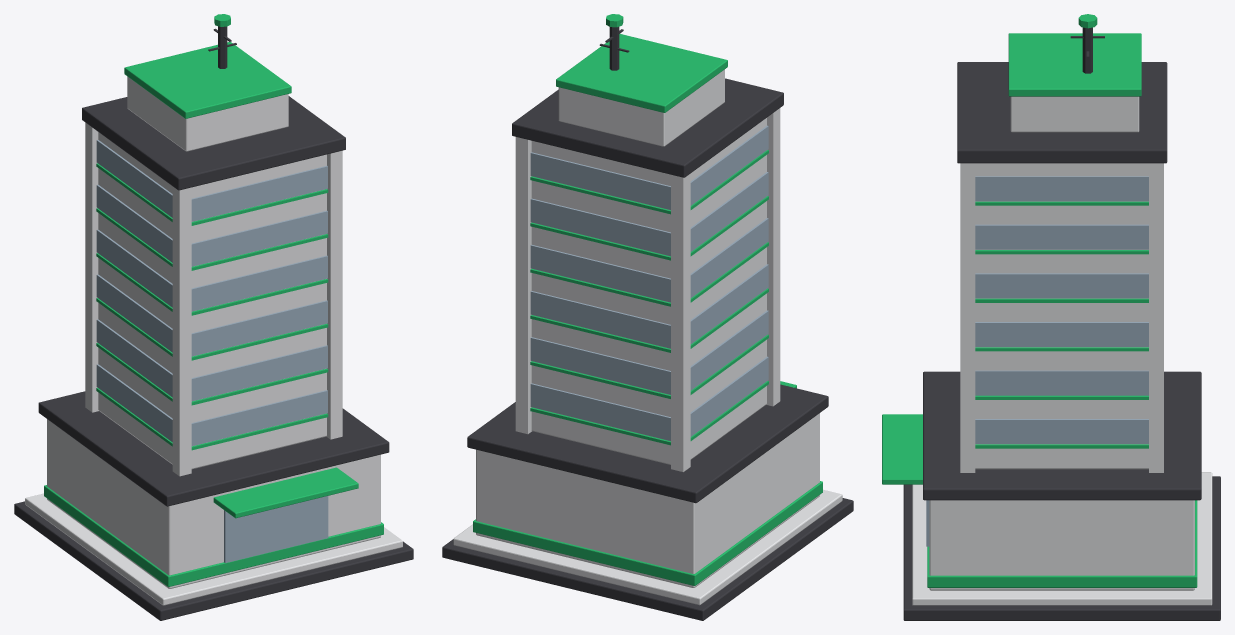
Rendered from tower.glb.
3 renders of one model, left to right at view 1: azimuth 30°, elevation 25°; view 2: azimuth 150°, elevation 25°; view 3: azimuth 270°, elevation 25°, orthographic. The views are drawn at different scales.
Parts seen in each view (by area): view 1: tower; view 2: tower; view 3: tower.
Boxes of the visible parts, x1,y1,x2,y2 form: tower: [14, 14, 413, 620]; tower: [442, 14, 853, 620]; tower: [882, 14, 1220, 620].
Bounding box in the file's own units: 7.4 × 14.09 × 7.9.
